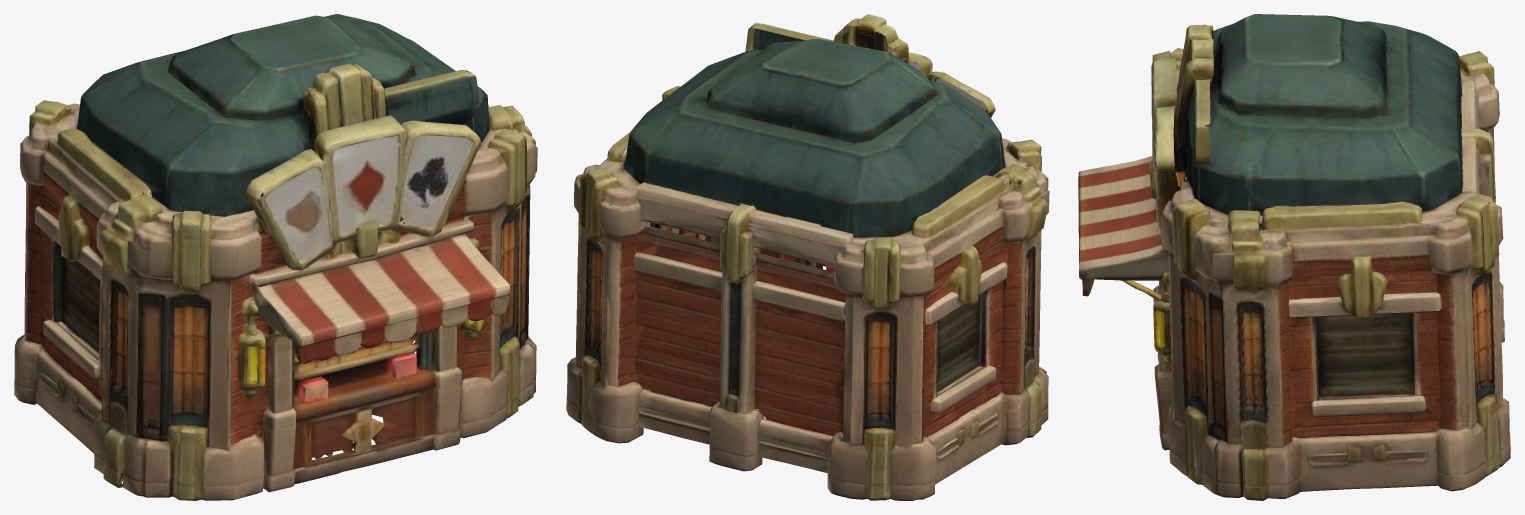
3 renders of one model, left to right at view 1: azimuth 30°, elevation 25°; view 2: azimuth 150°, elevation 25°; view 3: azimuth 270°, elevation 25°, orthographic. The views are drawn at different scales.
Parts seen in each view (by area): view 1: expansion__card_pavilion__native_mobile; view 2: expansion__card_pavilion__native_mobile; view 3: expansion__card_pavilion__native_mobile.
Boxes of the visible parts, <box> form: expansion__card_pavilion__native_mobile: <box>14,14,537,500</box>; expansion__card_pavilion__native_mobile: <box>566,14,1049,500</box>; expansion__card_pavilion__native_mobile: <box>1078,14,1510,500</box>.
Bounding box in the file's own units: 1 × 0.8652 × 0.8983.
1 material, 1 textured.
